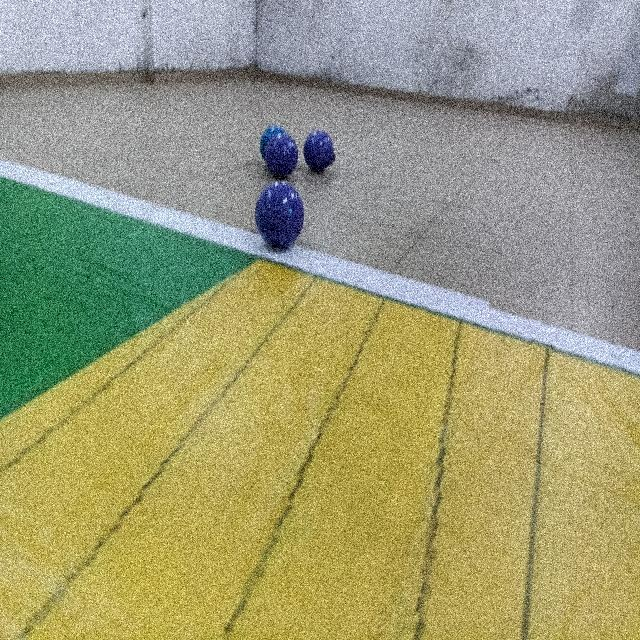blue_ball: (266, 134, 297, 176), (260, 125, 283, 144)
purple_ball: (253, 181, 305, 254), (302, 128, 336, 174)
